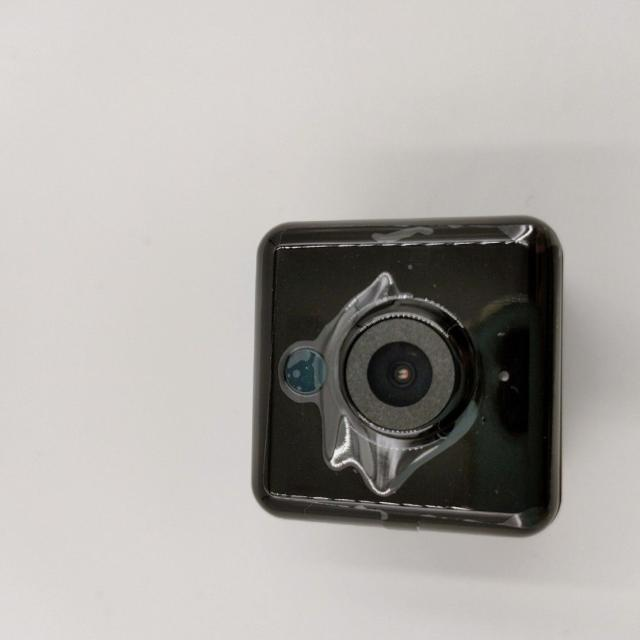hidden camera: (385, 357, 418, 390)
